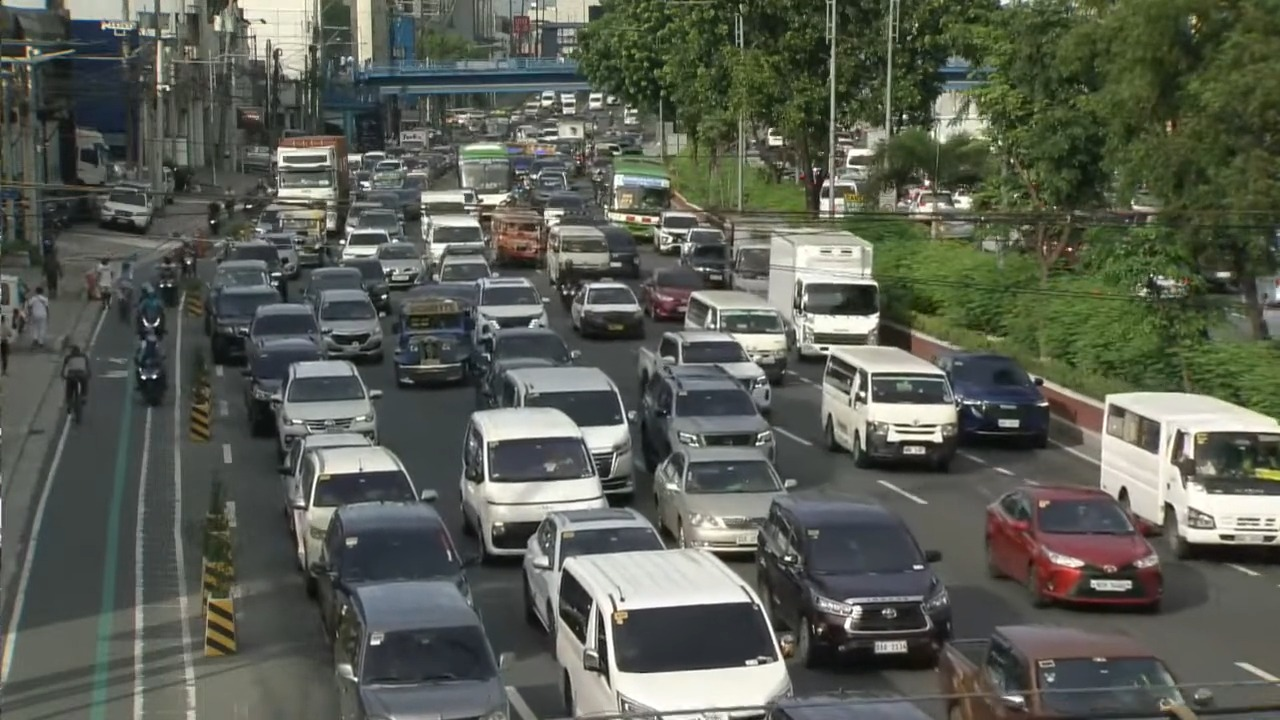bus: (1100, 392, 1279, 558), (607, 157, 671, 238), (457, 143, 515, 209)
car: (756, 494, 951, 667), (333, 581, 509, 719), (985, 486, 1162, 611), (317, 501, 473, 635), (486, 366, 634, 501), (291, 446, 419, 597), (523, 508, 664, 632), (654, 446, 795, 552), (639, 365, 775, 467), (935, 352, 1050, 447), (272, 359, 381, 456), (277, 432, 373, 536), (467, 329, 579, 408), (242, 336, 324, 435), (392, 297, 471, 385), (209, 286, 280, 364), (313, 289, 384, 362), (203, 261, 271, 334), (473, 277, 548, 335), (570, 281, 644, 337), (477, 328, 579, 367), (219, 240, 286, 298), (640, 266, 705, 319), (403, 276, 477, 318), (424, 214, 484, 265), (249, 303, 319, 346), (341, 257, 391, 313), (680, 231, 730, 286), (99, 185, 153, 232), (374, 242, 425, 289), (302, 266, 364, 304), (601, 226, 640, 278), (653, 210, 699, 253), (262, 232, 301, 279), (339, 228, 394, 260), (433, 253, 492, 282), (352, 208, 403, 240), (541, 190, 586, 223), (533, 170, 570, 206), (344, 200, 381, 235), (253, 204, 285, 237), (437, 244, 488, 262), (529, 156, 567, 179), (684, 226, 727, 246), (587, 93, 604, 110), (605, 95, 619, 106)
motorcycle: (137, 364, 165, 406), (136, 312, 164, 337), (157, 274, 177, 307), (116, 285, 131, 322), (181, 252, 195, 276), (208, 217, 220, 236)
truck: (938, 625, 1211, 719), (767, 226, 880, 357), (637, 331, 770, 411), (276, 135, 349, 236), (729, 239, 771, 297), (75, 126, 115, 185), (398, 129, 428, 152), (556, 119, 587, 141)
